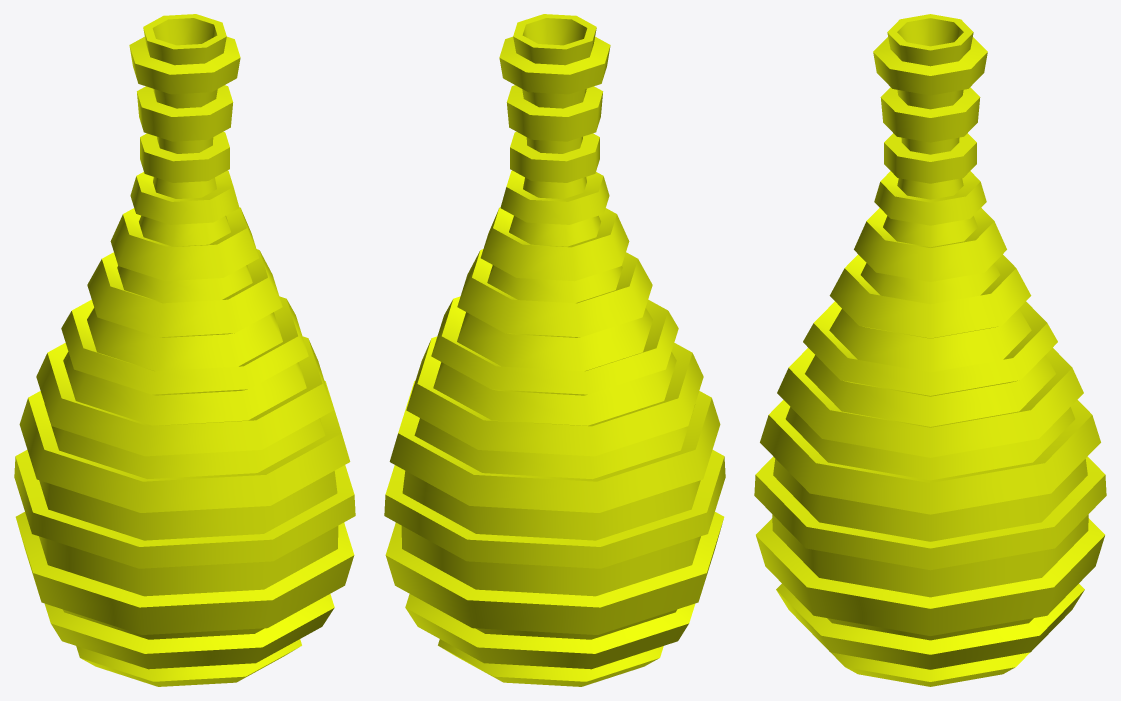
The model's file is Vase3.FBX.
The picture shows the model from 3 angles, left to right: view 1: azimuth 30°, elevation 25°; view 2: azimuth 150°, elevation 25°; view 3: azimuth 270°, elevation 25°; orthographic projection.
Parts seen in each view (by area): view 1: Cylinder002; view 2: Cylinder002; view 3: Cylinder002.
Boxes of the visible parts, x1,y1,x2,y2 form: Cylinder002: (14, 14, 355, 686); Cylinder002: (384, 14, 725, 686); Cylinder002: (754, 14, 1106, 686).
Size of the model in its own units: 0.4372 by 0.8372 by 0.4372.
